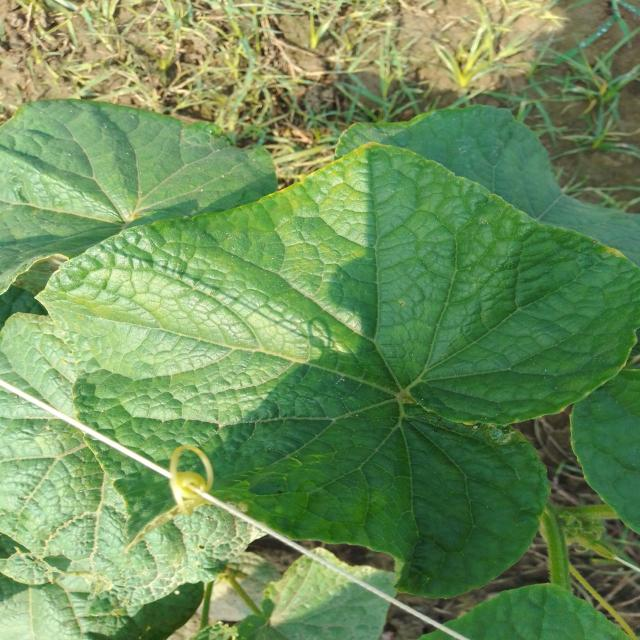cucumber_healthy: (32, 134, 640, 603), (0, 85, 195, 294), (226, 546, 402, 640), (420, 583, 636, 640)
